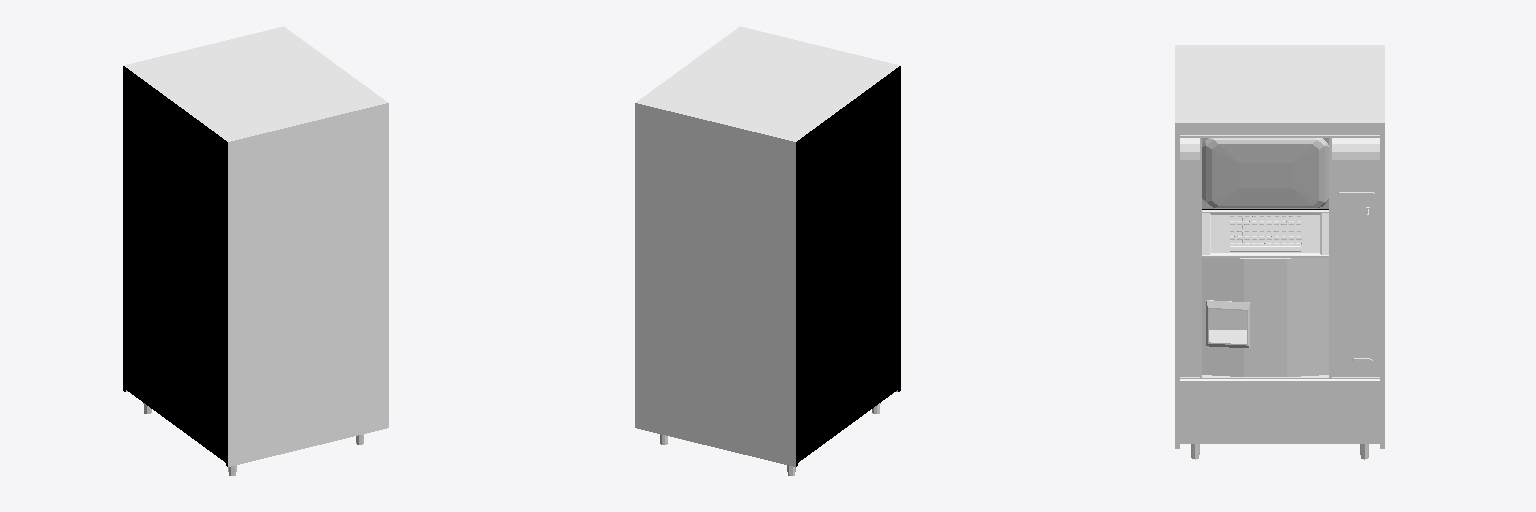
3 renders of one model, left to right at view 1: azimuth 30°, elevation 25°; view 2: azimuth 150°, elevation 25°; view 3: azimuth 270°, elevation 25°, orthographic.
Parts seen in each view (by area): view 1: 294; view 2: 294; view 3: 294, 294_screen.
Boxes of the visible parts, box(x1,y1,x2,y2) form: 294: box(123, 26, 388, 475); 294: box(635, 26, 900, 475); 294: box(1175, 45, 1384, 459); 294_screen: box(1202, 138, 1328, 208).
Bounding box in the file's own units: 0.5497 × 1.12 × 0.6206.